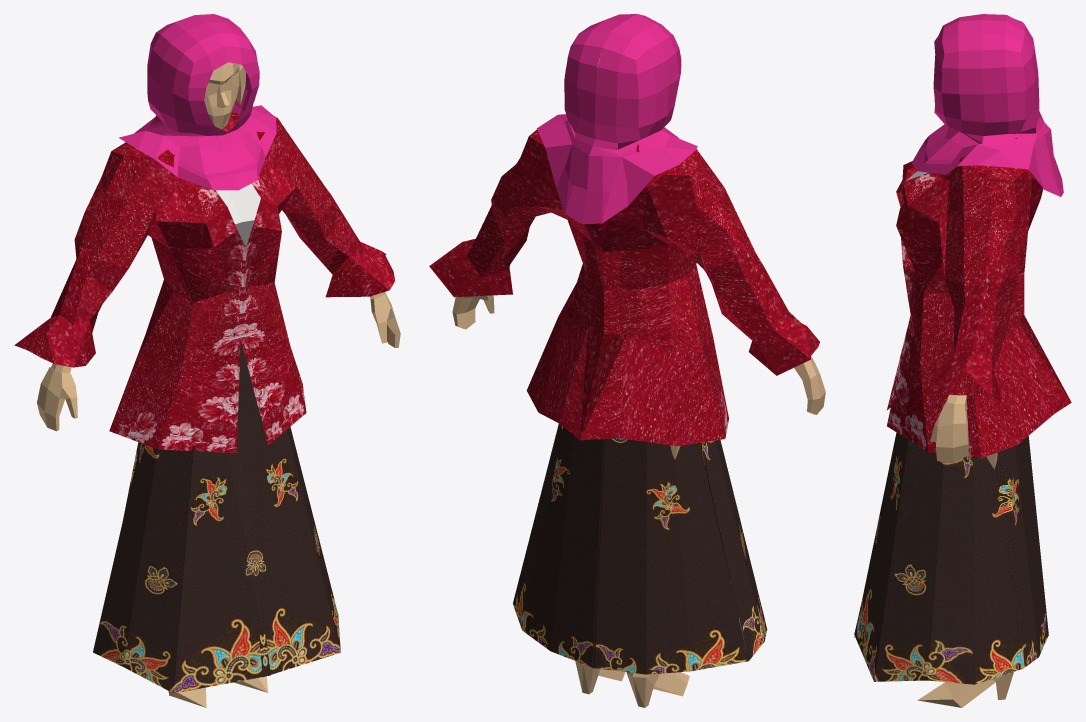
The model's file is Rafiy_2.fbx.
The picture shows the model from 3 angles, left to right: view 1: azimuth 30°, elevation 25°; view 2: azimuth 150°, elevation 25°; view 3: azimuth 270°, elevation 25°; orthographic projection. The views are drawn at different scales.
Parts seen in each view (by area): view 1: kebaya, skirt, Hijab, character, inner wear; view 2: kebaya, skirt, Hijab, character; view 3: skirt, kebaya, Hijab, character.
Part boxes in pixels (left/top/right/bottom): kebaya: left=14, top=112, right=394, bottom=452; skirt: left=93, top=340, right=340, bottom=693; Hijab: left=119, top=14, right=276, bottom=190; character: left=37, top=62, right=400, bottom=707; inner wear: left=216, top=183, right=260, bottom=246; kebaya: left=429, top=130, right=819, bottom=446; skirt: left=513, top=423, right=767, bottom=674; Hijab: left=536, top=14, right=697, bottom=224; character: left=452, top=53, right=825, bottom=707; skirt: left=854, top=432, right=1048, bottom=684; kebaya: left=887, top=138, right=1071, bottom=458; Hijab: left=911, top=14, right=1063, bottom=196; character: left=917, top=395, right=1013, bottom=707.
Bounding box in the file's own units: 399 × 670 × 199.
